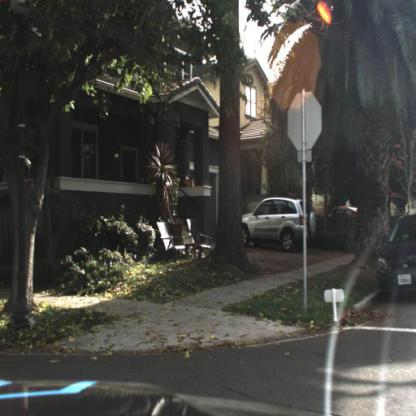car: (238, 198, 317, 257), (377, 216, 416, 304)
